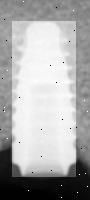Frontier: (3, 19, 77, 179)
